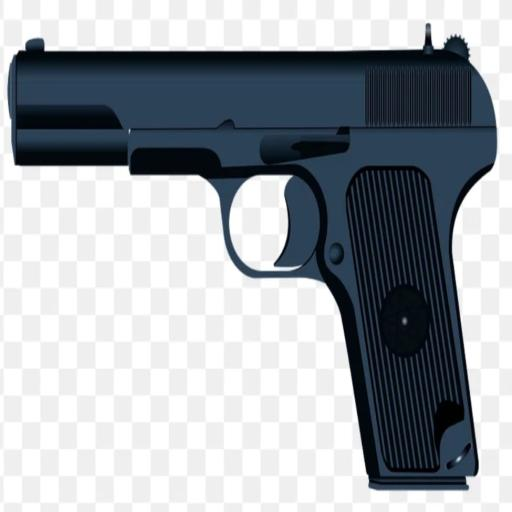Gun: (8, 24, 496, 488)
